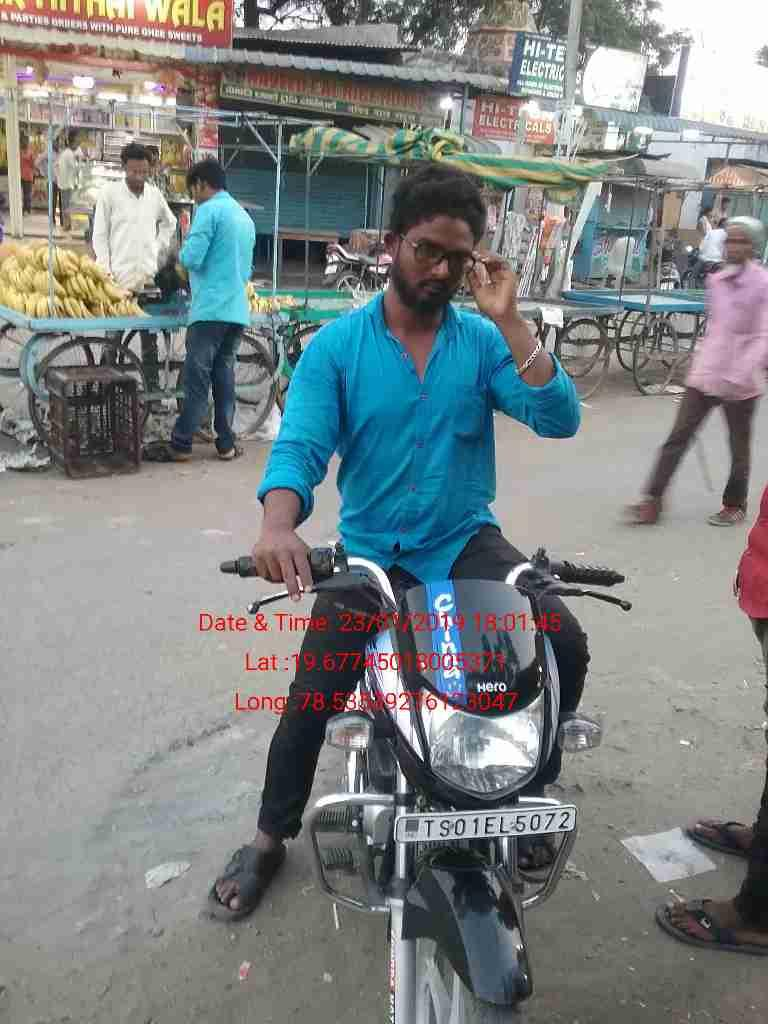plate: (397, 803, 583, 846)
